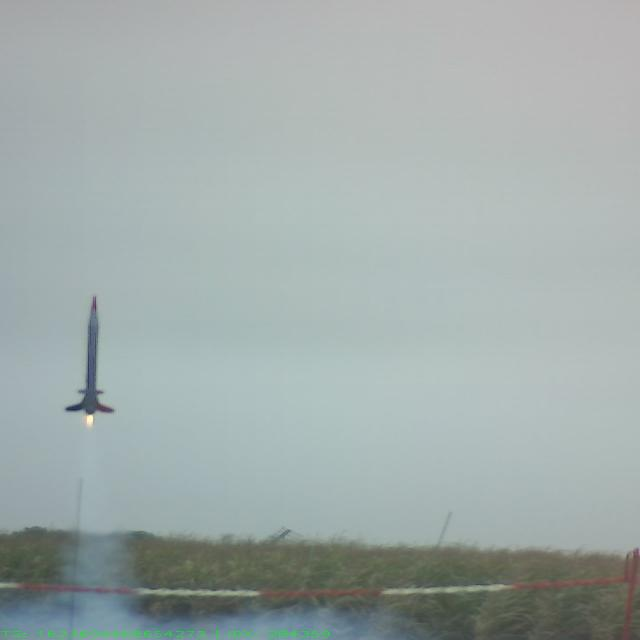Rocket: (64, 293, 116, 415)
